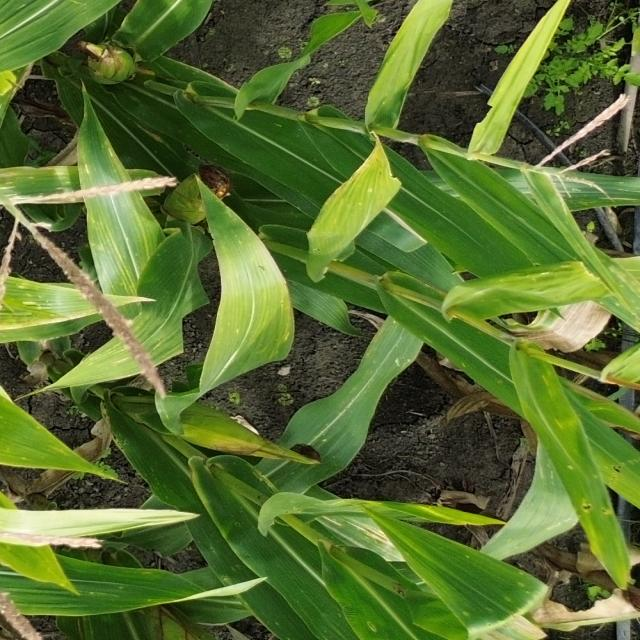gray-leaf-spot: (86, 233, 147, 304), (5, 162, 92, 204)
northern-leaf-blight: (308, 510, 426, 562), (200, 435, 308, 471)
southern-leaf-blight: (456, 568, 557, 640), (555, 453, 632, 539), (16, 285, 93, 333), (385, 328, 451, 375), (53, 410, 59, 414)
